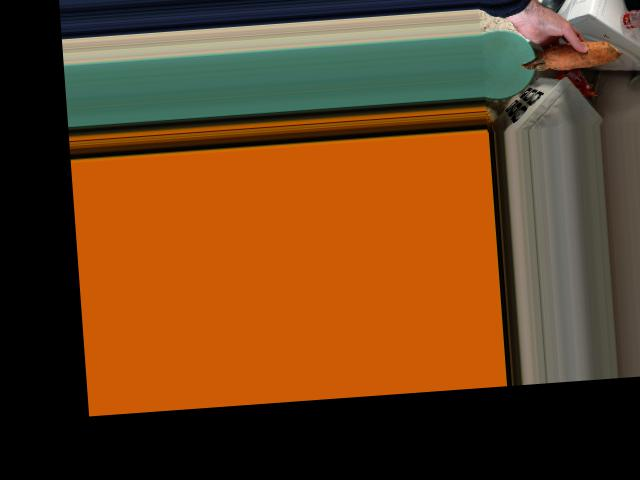sweet_potato: (522, 32, 609, 72)
